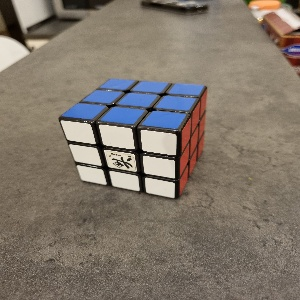cube: (58, 78, 208, 200)
